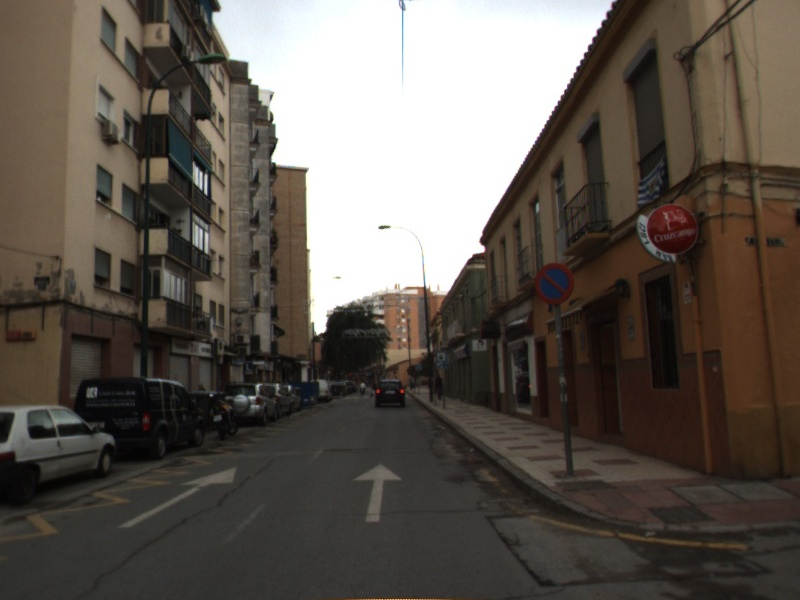STRAIGHT: (116, 464, 239, 530), (350, 461, 405, 524)
